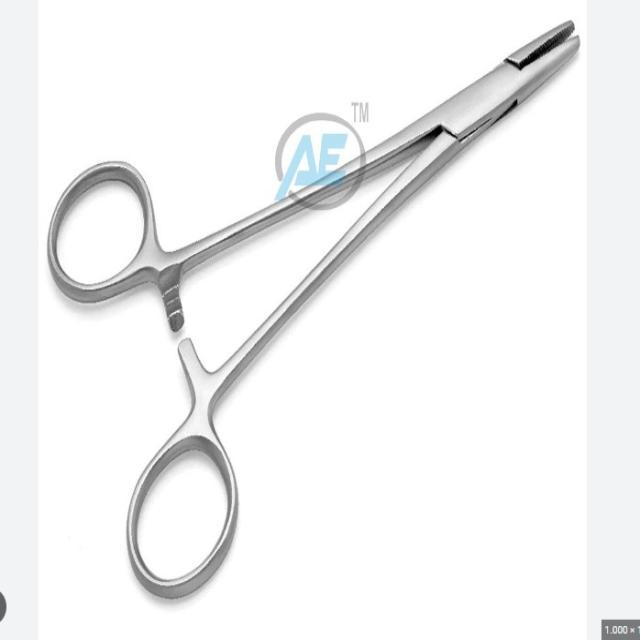Needle Holder: (40, 22, 586, 600)
